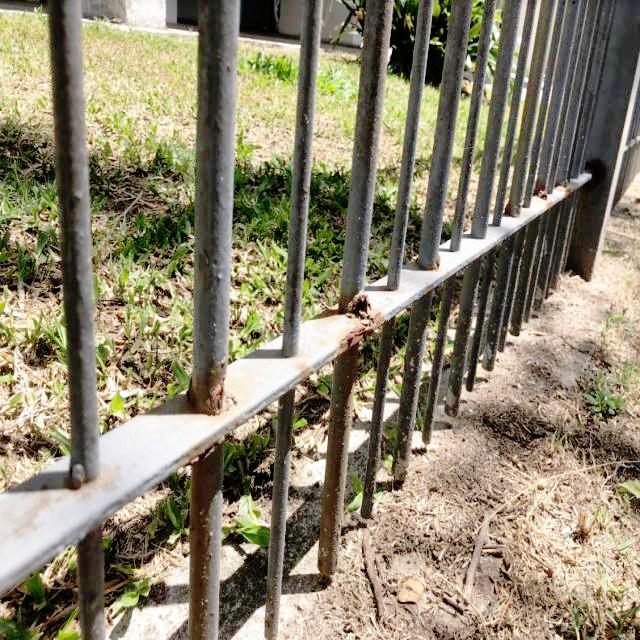Corrosion: (337, 288, 389, 359), (184, 358, 236, 419), (534, 175, 553, 205), (431, 252, 447, 280)
